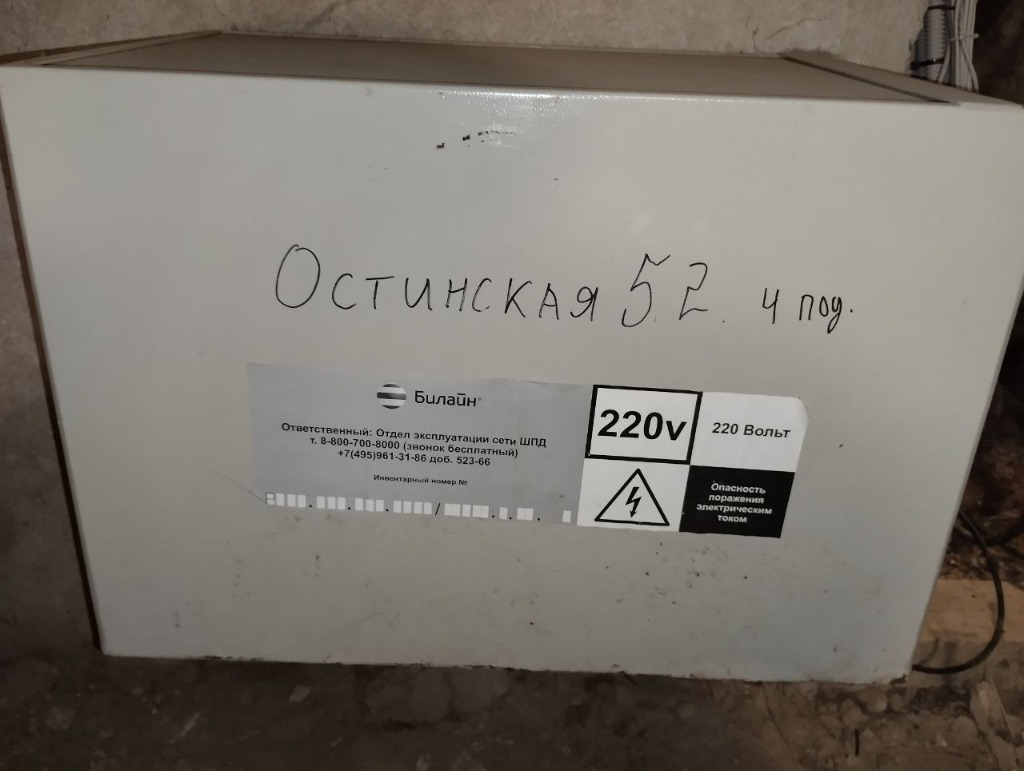sv-5: (3, 22, 1020, 690)
